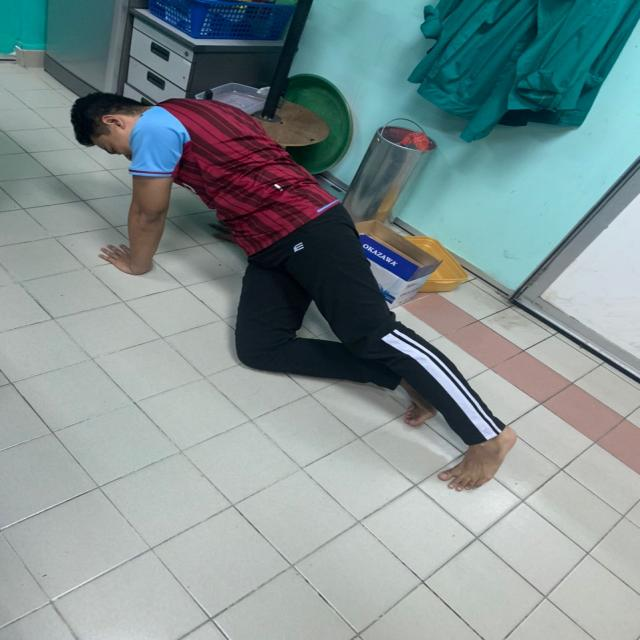Fall-Detected: (72, 79, 524, 489)
